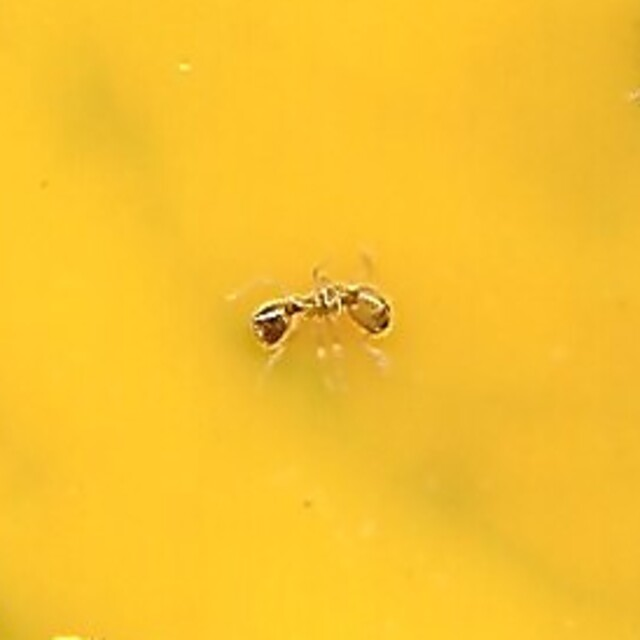Hymenoptera: (234, 267, 406, 373)
